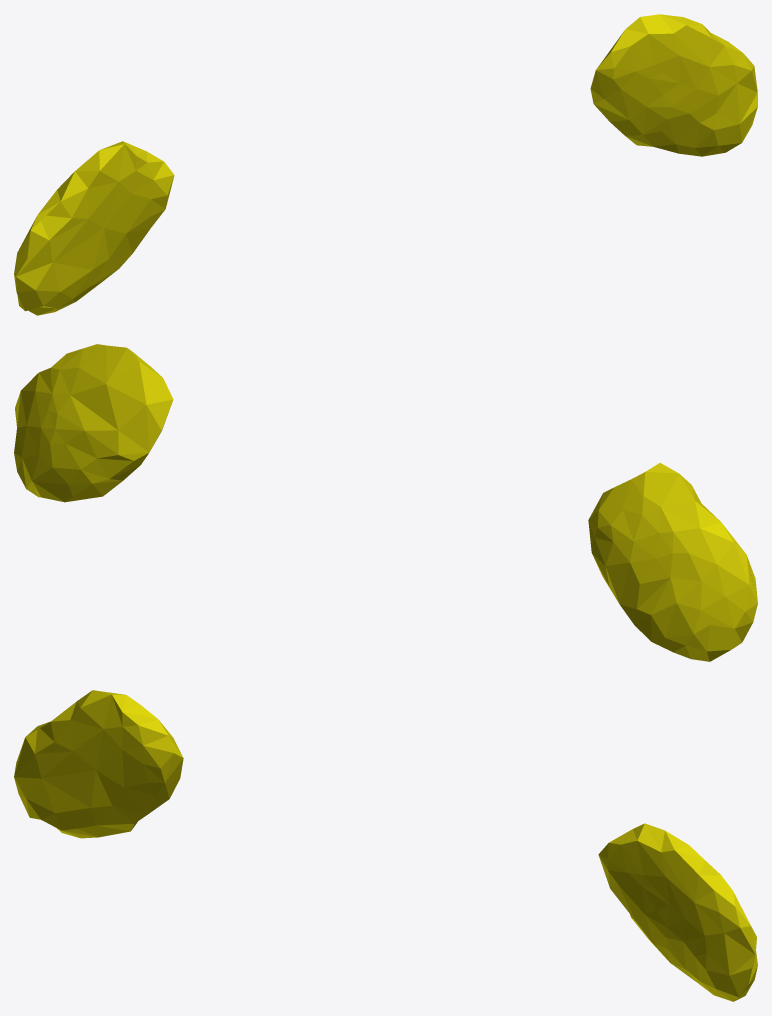
The model's file is 240-Pul-pulvinar nuclei-('1.0000', '0.9608', '0.0000').obj.
3 views of the same model, one above another, from view 1: azimuth 30°, elevation 25°; view 2: azimuth 150°, elevation 25°; view 3: azimuth 330°, elevation 25° (orthographic).
Bounding box in the file's own units: 135 × 29.66 × 11.01.
